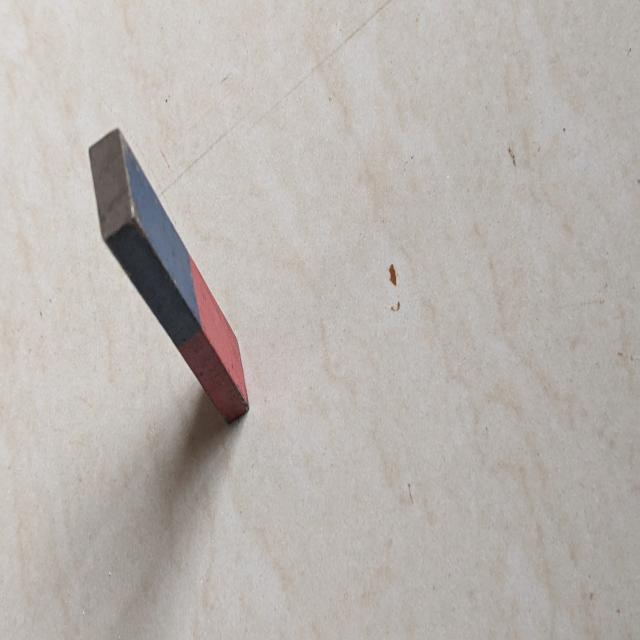Magnet: (72, 125, 257, 428)
